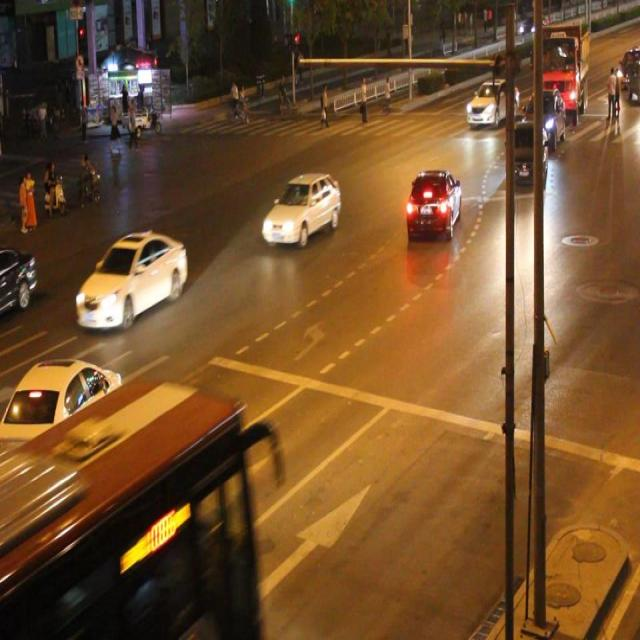car: (0, 356, 124, 494), (76, 228, 188, 330), (261, 172, 340, 246), (404, 167, 462, 240), (506, 120, 546, 188), (1, 240, 36, 316)
van: (1, 378, 257, 640)
